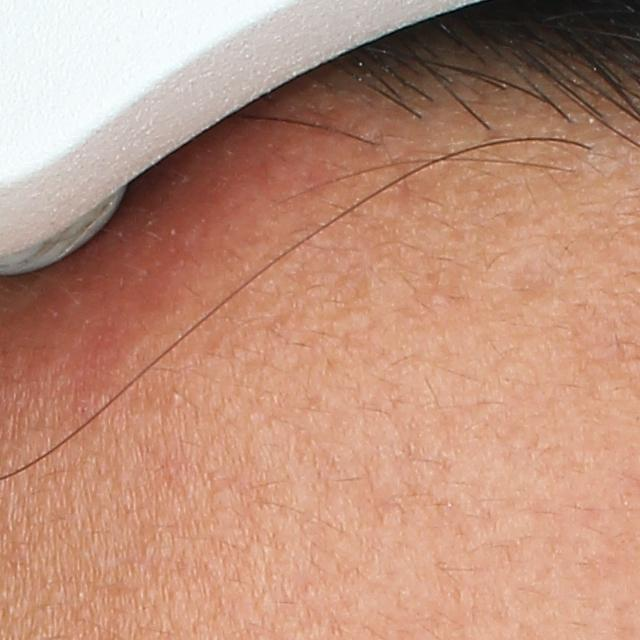atrophic_scar: (506, 252, 556, 303)
comedo: (426, 288, 449, 307), (166, 388, 184, 410)
